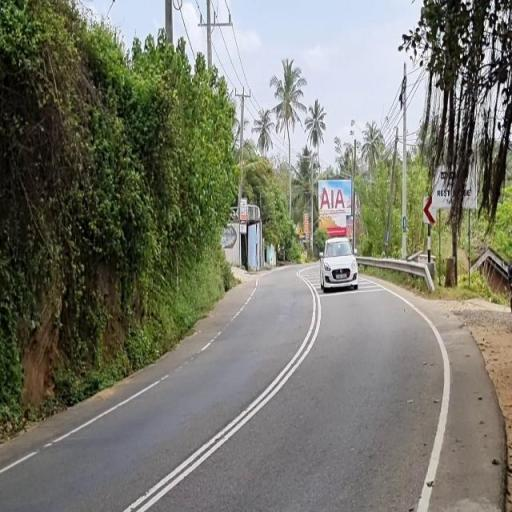double_white_line: (124, 281, 322, 511)
